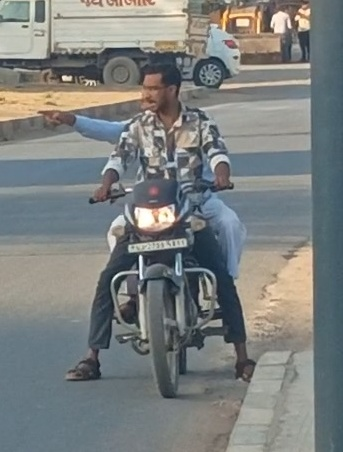BikeWithRider: (60, 57, 261, 406)
NoHelmet: (141, 61, 182, 114)
